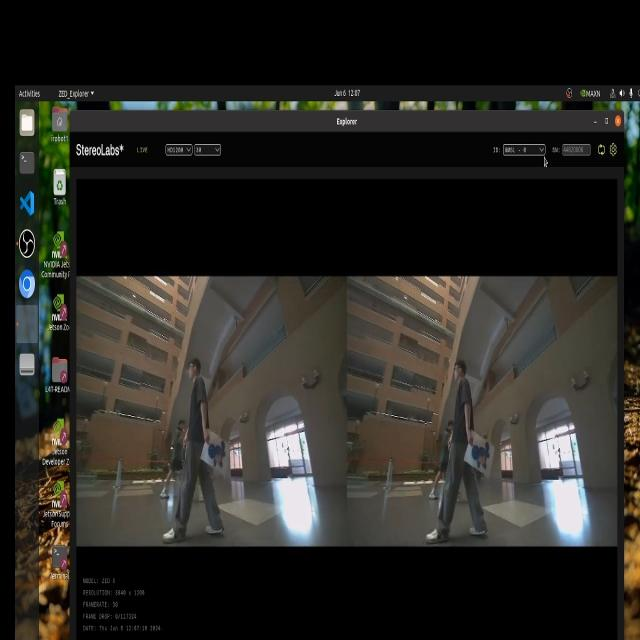blue: (199, 436, 230, 467), (467, 440, 496, 472)
